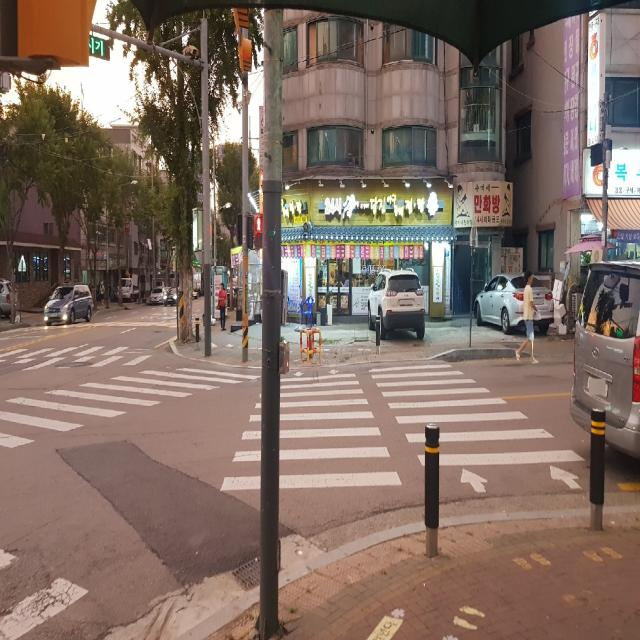횡단보도: (218, 361, 588, 495), (0, 330, 254, 458)
